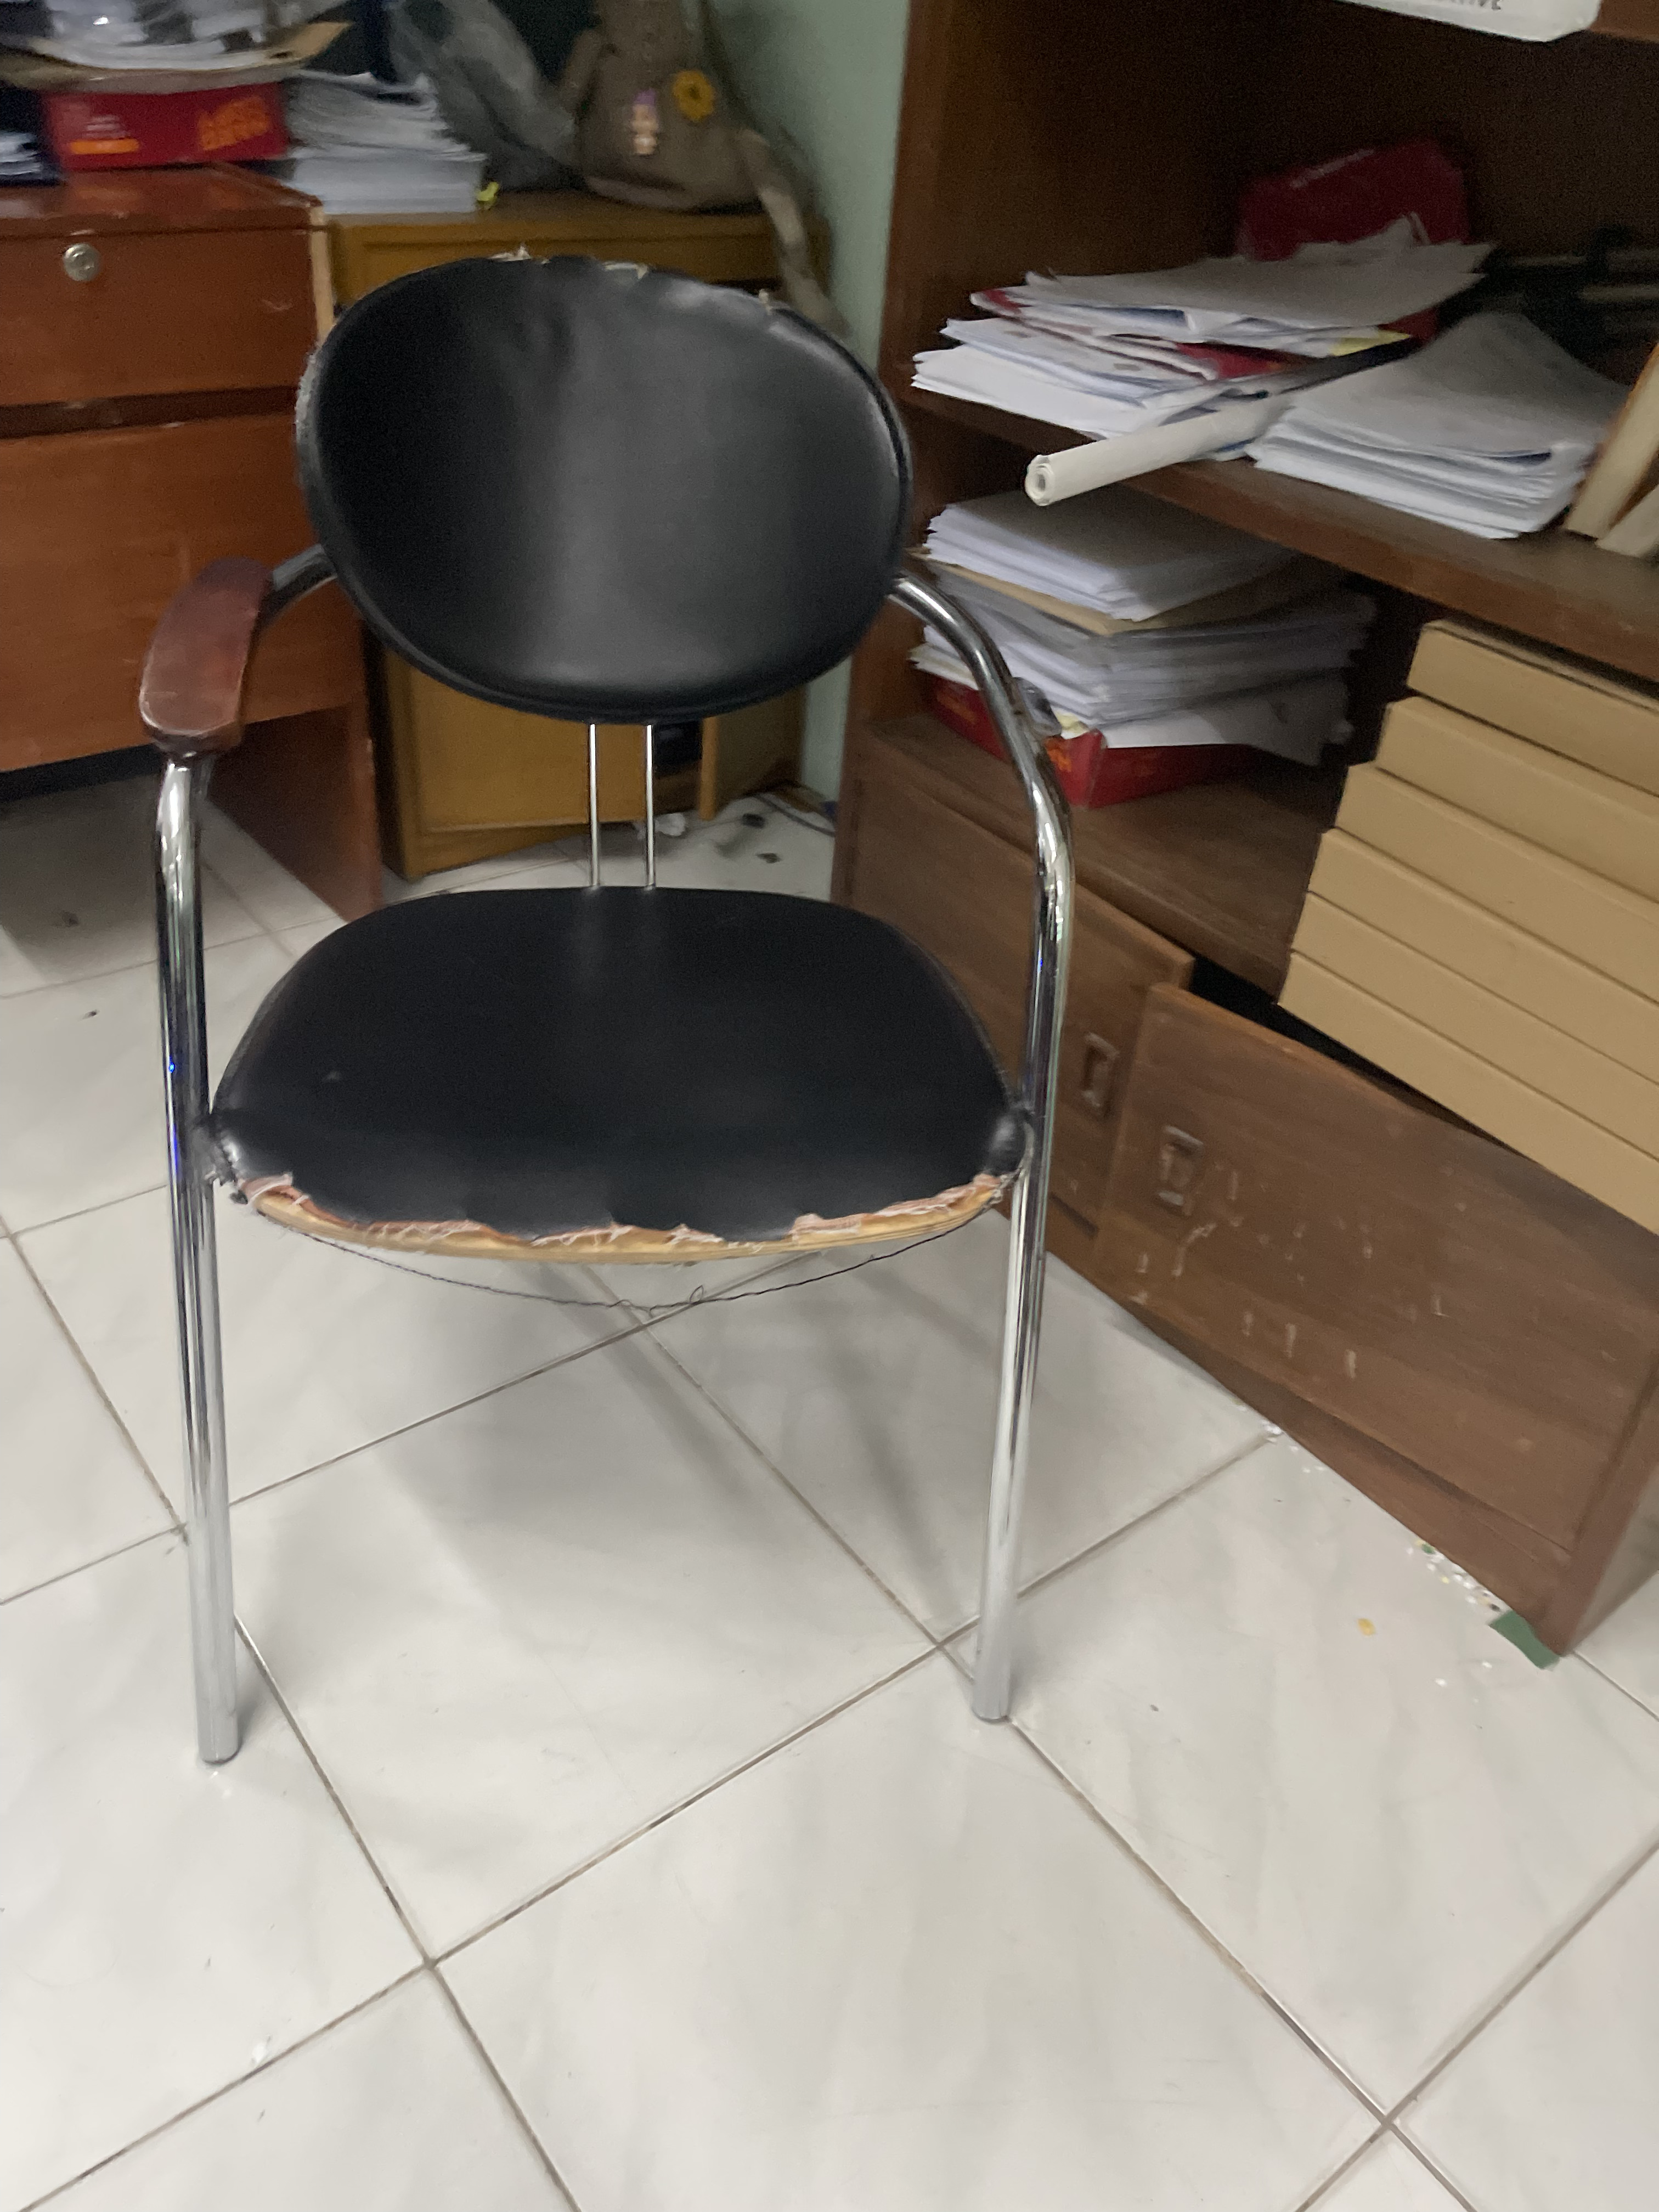chair1: (120, 249, 1087, 1764)
